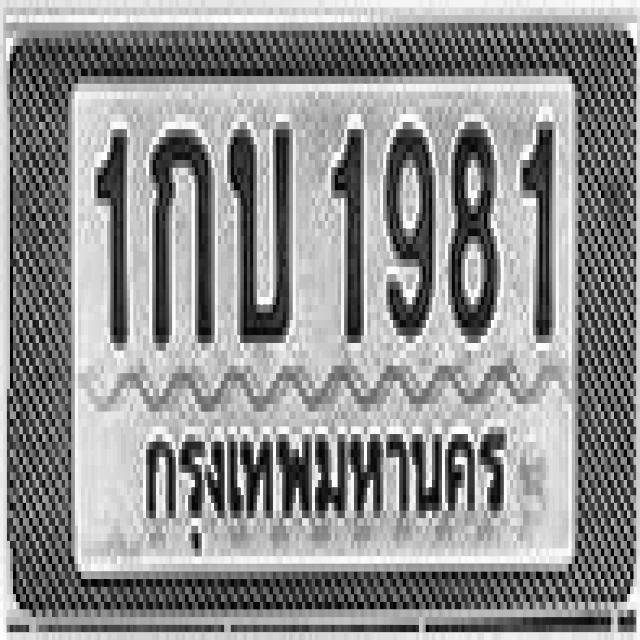license-plate: (9, 20, 640, 612)
